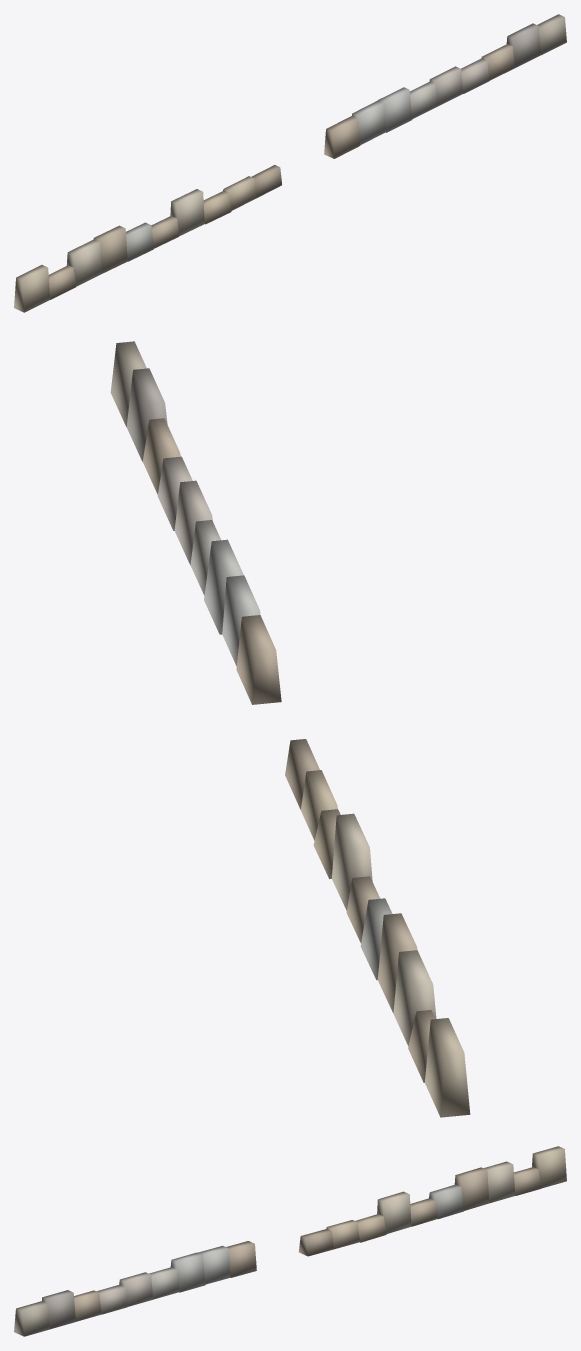
The model's file is farm_-3_-8_collision.glb.
The picture shows the model from 3 angles, top to bottom: view 1: azimuth 90°, elevation 25°; view 2: azimuth 150°, elevation 25°; view 3: azimuth 270°, elevation 25°; orthographic projection. The views are drawn at different scales.
Visible parts, largest first — view 1: geometry_0; view 2: geometry_0; view 3: geometry_0.
Part boxes in pixels (x1=…): geometry_0: x1=14, y1=14, x2=566, y2=312; geometry_0: x1=110, y1=341, x2=470, y2=1117; geometry_0: x1=14, y1=1146, x2=566, y2=1336.
Size of the model in its own units: 22.41 by 3.99 by 24.07.
